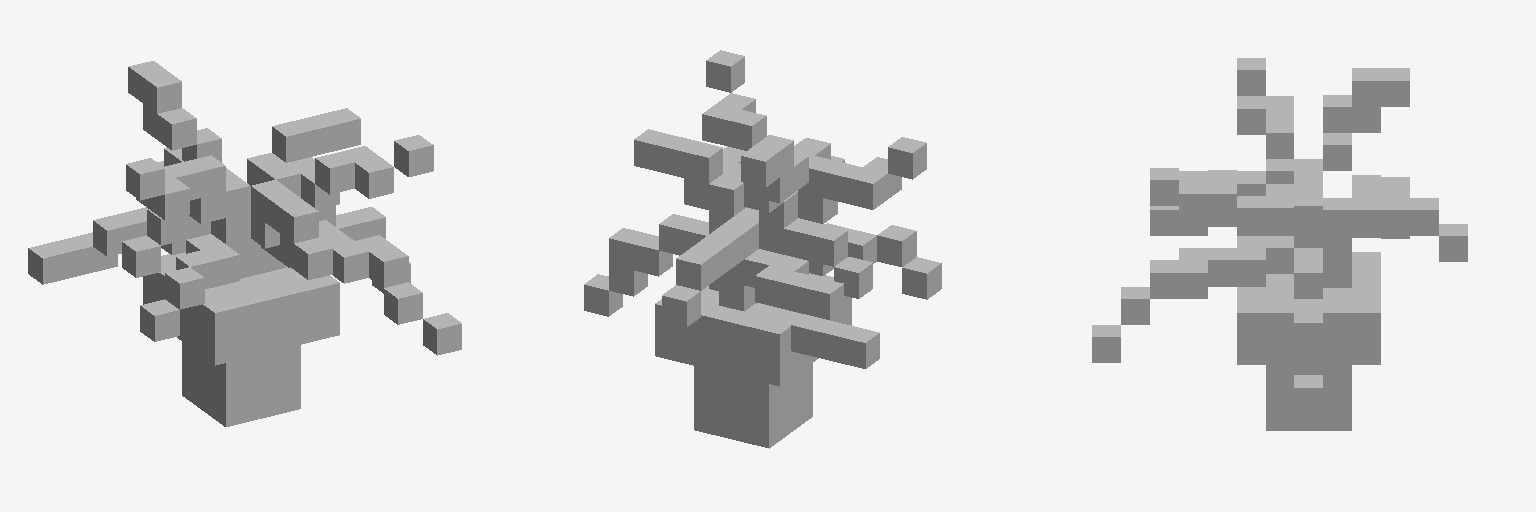
Rendered from plant.obj.
The picture shows the model from 3 angles: view 1: azimuth 30°, elevation 25°; view 2: azimuth 150°, elevation 25°; view 3: azimuth 270°, elevation 25°; orthographic projection.
Visible parts, largest first — view 1: object 1; view 2: object 1; view 3: object 1.
Boxes of the visible parts, <box> form: object 1: <box>28,61,461,426</box>; object 1: <box>584,50,941,448</box>; object 1: <box>1092,58,1467,430</box>.
Size of the model in its own units: 1.3 by 1.2 by 1.3.